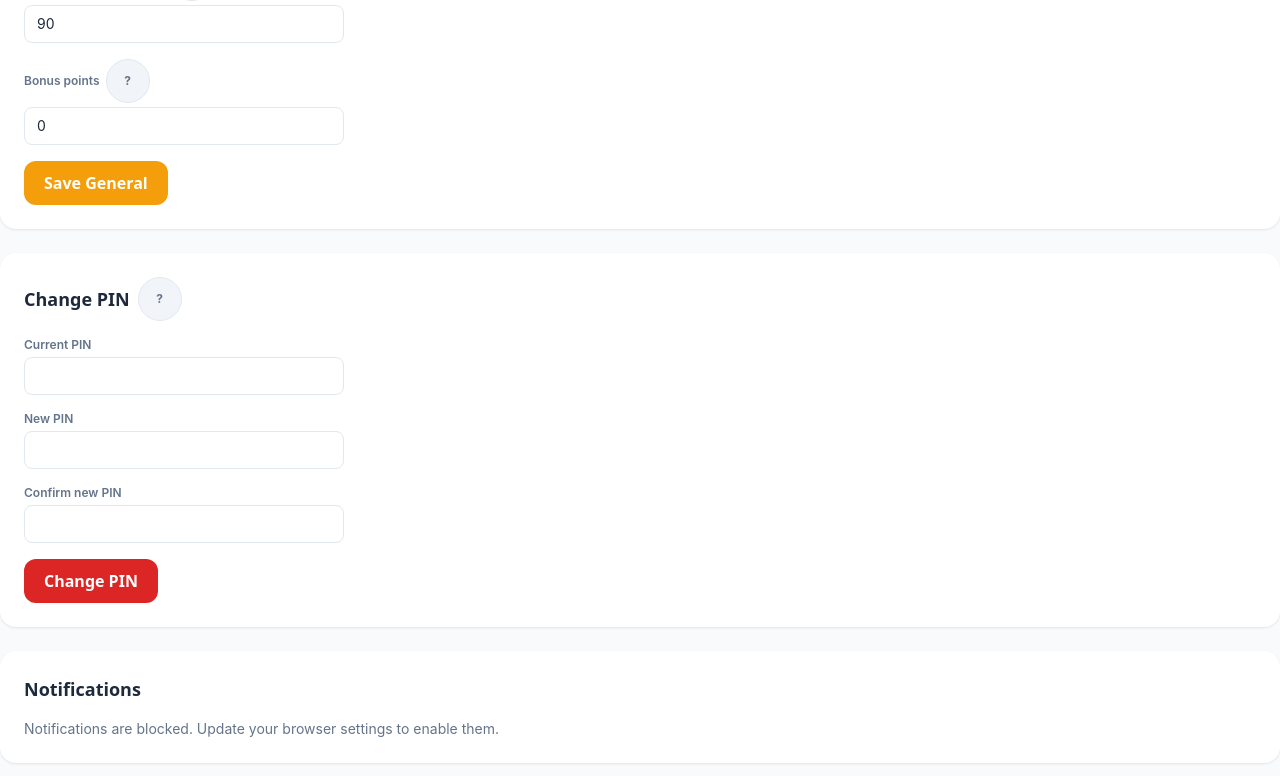
Test: SettingsScreen › shows PIN error when new PIN is too short
(page scrolled)
Step 1. Type "123456" into the password field labelled "Current PIN" → (184, 376), box [24,357,344,395]
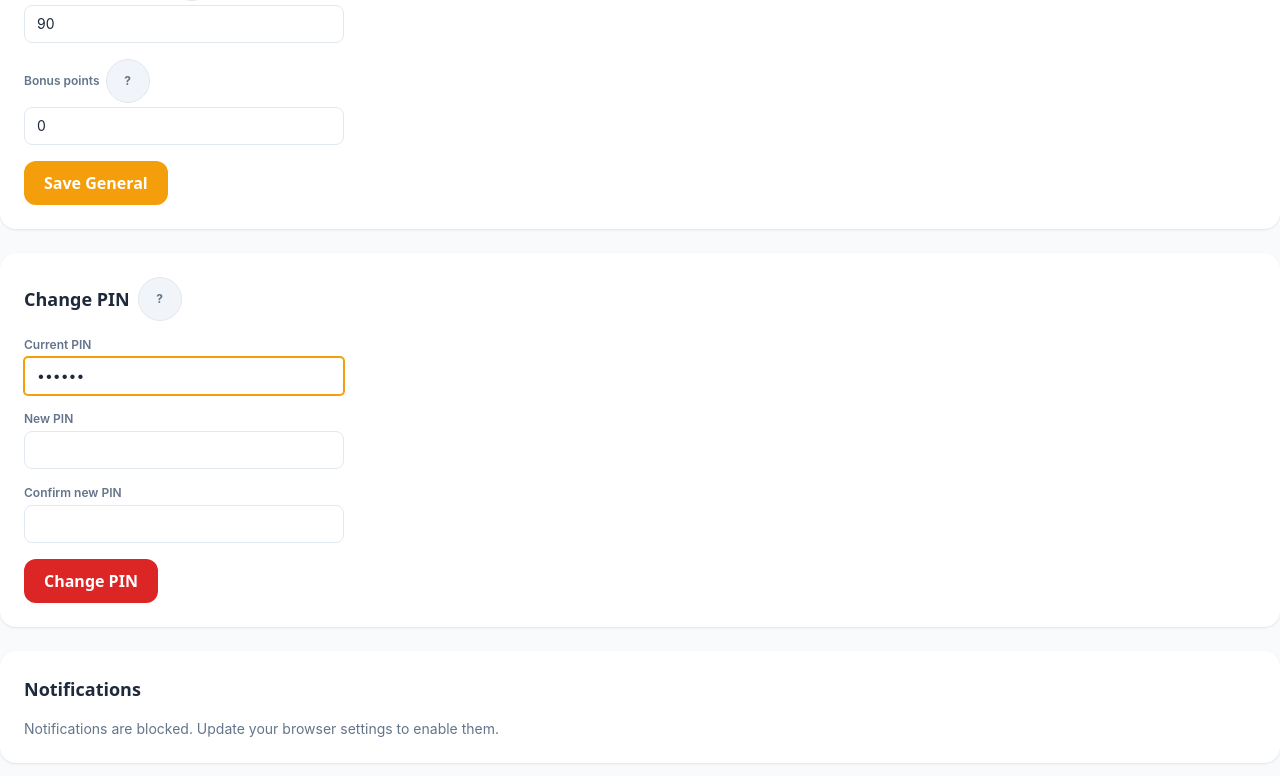
Step 2. Type "123" into the password field labelled "New PIN" → (184, 450), box [24,431,344,469]
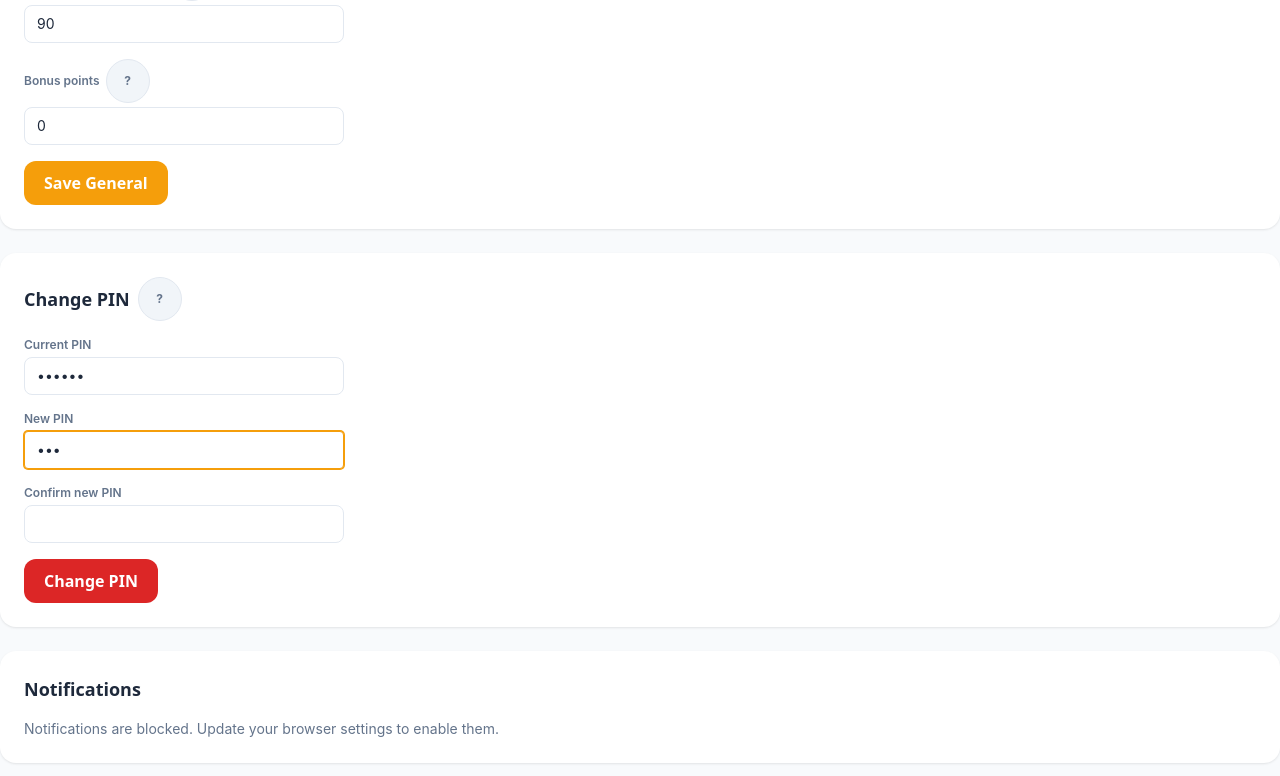
Step 3. Type "123" into the password field labelled "Confirm new PIN" → (184, 524), box [24,505,344,543]
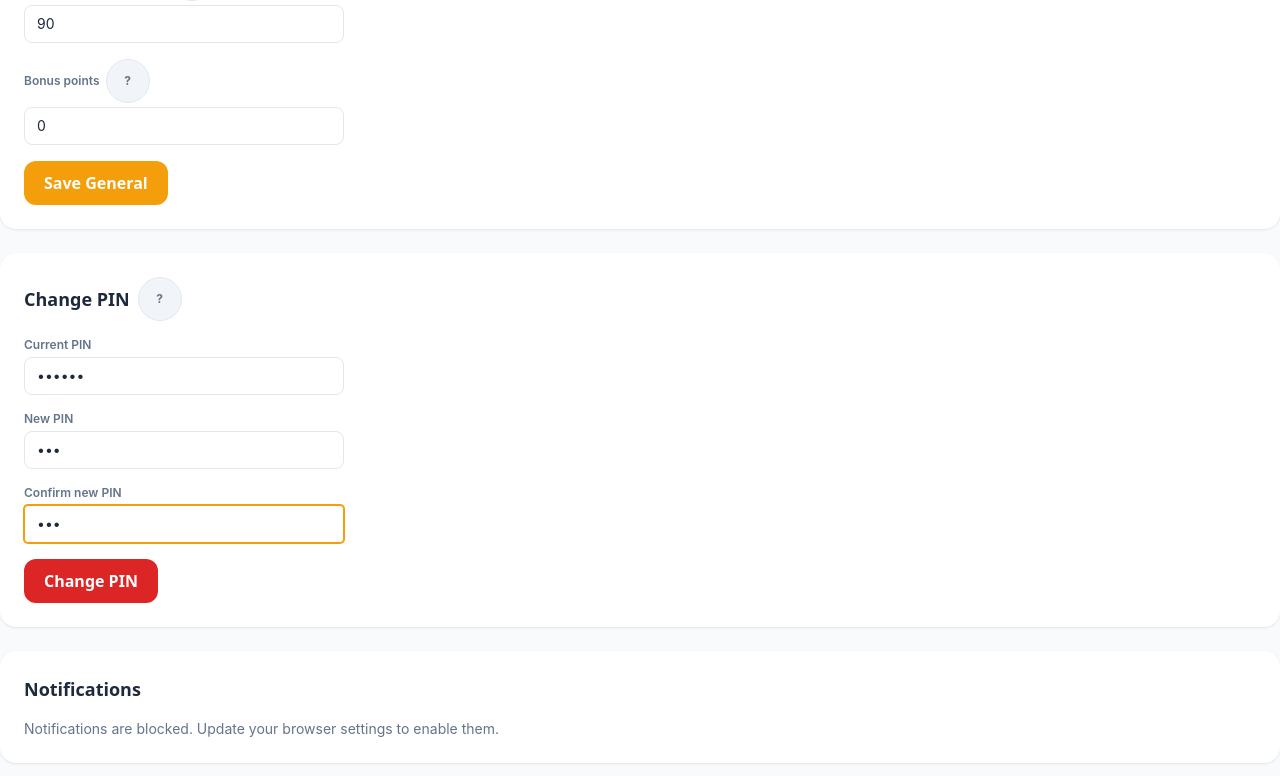
Step 4. Click the button "Change PIN" → (91, 581), box [24,559,158,603]
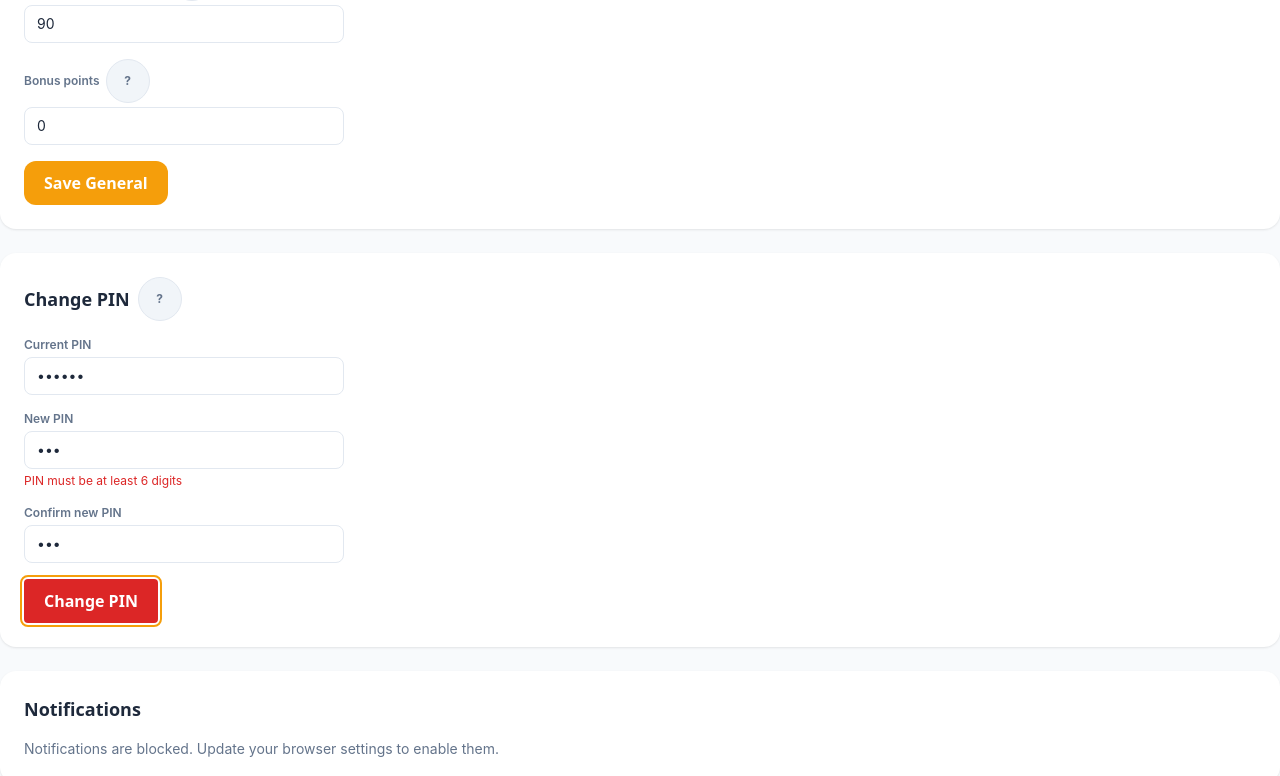
Result: the text "PIN must be at least 6 digits" is shown at [24,473,182,488]
